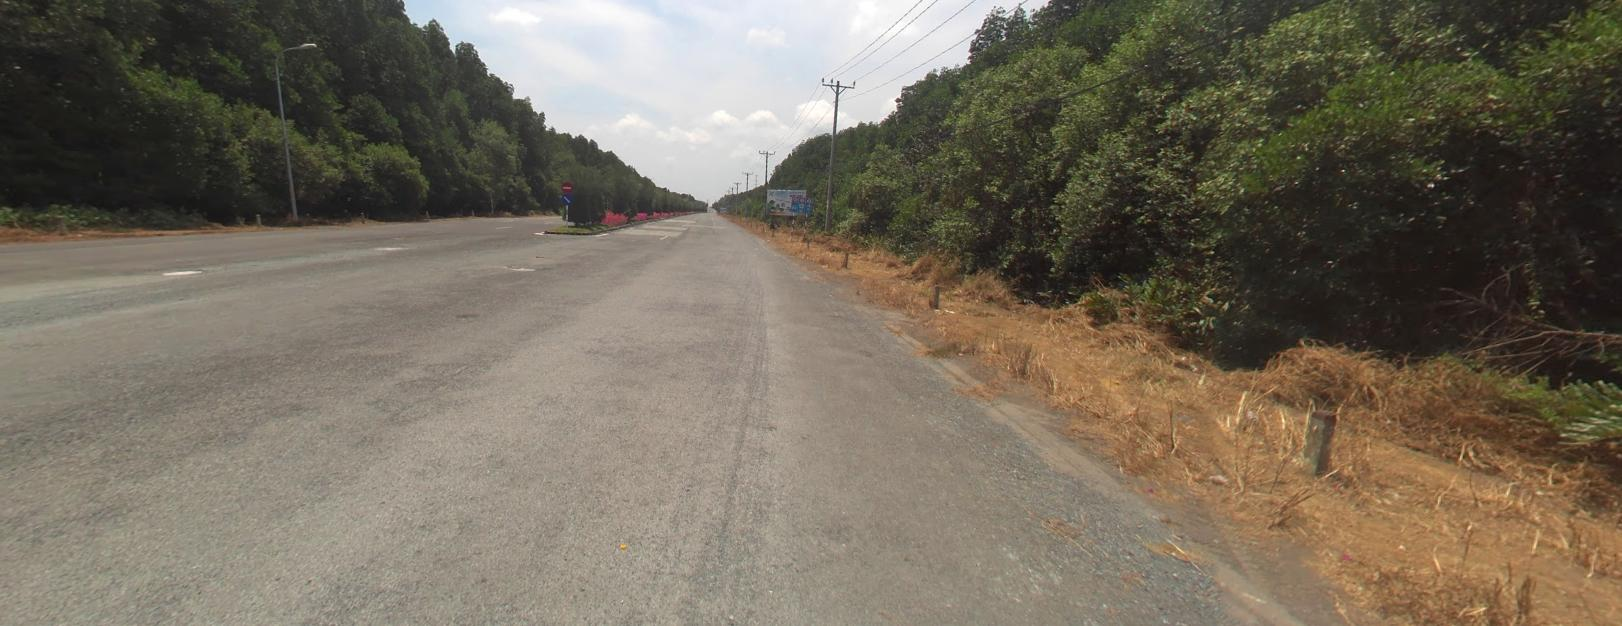Cam nguoc chieu: (561, 180, 573, 191)
Hieu lenh: (561, 192, 571, 202)
